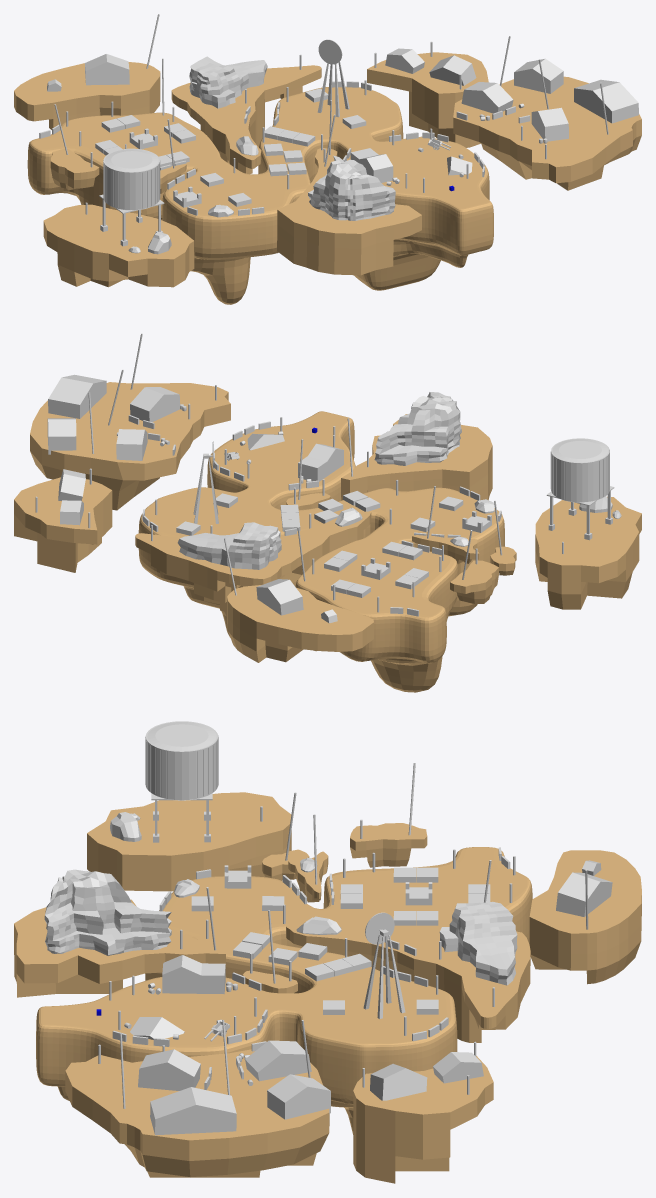
The model's file is Sala1.fbx.
The picture shows the model from 3 angles, top to bottom: view 1: azimuth 30°, elevation 25°; view 2: azimuth 150°, elevation 25°; view 3: azimuth 270°, elevation 25°; orthographic projection. The views are drawn at different scales.
Parts seen in each view (by area): view 1: Base 2-1, Cube.040, Cube.042, Cube.044, Cube.043, Cube.041, Cube.039, Torre de Agua, Cube.050, Cube.049, Casa.004, Cube.046 (+8 smaller); view 2: Base 2-1, Cube.040, Cube.042, Cube.043, Cube.041, Cube.039, Cube.044, Cube.050, Torre de Agua, Cube.049, Casa.004, Cube.046 (+10 smaller); view 3: Base 2-1, Cube.040, Cube.042, Cube.039, Cube.043, Cube.041, Cube.044, Cube.050, Torre de Agua, Cube.049, Casa.004, Cube.046 (+13 smaller).
Boxes of the visible parts, bbox=[...] form: Base 2-1: bbox=[27, 86, 493, 304]; Cube.040: bbox=[453, 76, 641, 190]; Cube.042: bbox=[43, 204, 194, 287]; Cube.044: bbox=[277, 161, 421, 275]; Cube.043: bbox=[14, 62, 160, 129]; Cube.041: bbox=[171, 65, 321, 174]; Cube.039: bbox=[367, 52, 488, 147]; Torre de Agua: bbox=[99, 148, 164, 246]; Cube.050: bbox=[308, 155, 395, 220]; Cube.049: bbox=[189, 56, 267, 108]; Casa.004: bbox=[574, 79, 638, 123]; Cube.046: bbox=[50, 149, 99, 190]; Base 2-1: bbox=[138, 411, 504, 692]; Cube.040: bbox=[30, 382, 230, 510]; Cube.042: bbox=[535, 497, 641, 609]; Cube.043: bbox=[227, 585, 373, 662]; Cube.041: bbox=[135, 511, 371, 611]; Cube.039: bbox=[14, 477, 112, 572]; Cube.044: bbox=[341, 414, 492, 500]; Cube.050: bbox=[374, 392, 461, 465]; Torre de Agua: bbox=[546, 438, 614, 540]; Cube.049: bbox=[177, 522, 281, 569]; Casa.004: bbox=[48, 374, 106, 418]; Cube.046: bbox=[450, 560, 498, 603]; Base 2-1: bbox=[36, 847, 532, 1134]; Cube.040: bbox=[65, 1049, 329, 1177]; Cube.042: bbox=[87, 792, 291, 891]; Cube.039: bbox=[353, 1056, 493, 1183]; Cube.043: bbox=[529, 850, 641, 984]; Cube.041: bbox=[286, 923, 530, 1042]; Cube.044: bbox=[14, 899, 226, 997]; Cube.050: bbox=[44, 869, 171, 955]; Torre de Agua: bbox=[145, 721, 218, 842]; Cube.049: bbox=[439, 901, 517, 985]; Casa.004: bbox=[150, 1087, 236, 1135]; Cube.046: bbox=[350, 823, 427, 867].
Bounding box in the file's own units: 26084 × 34811 × 11466.
